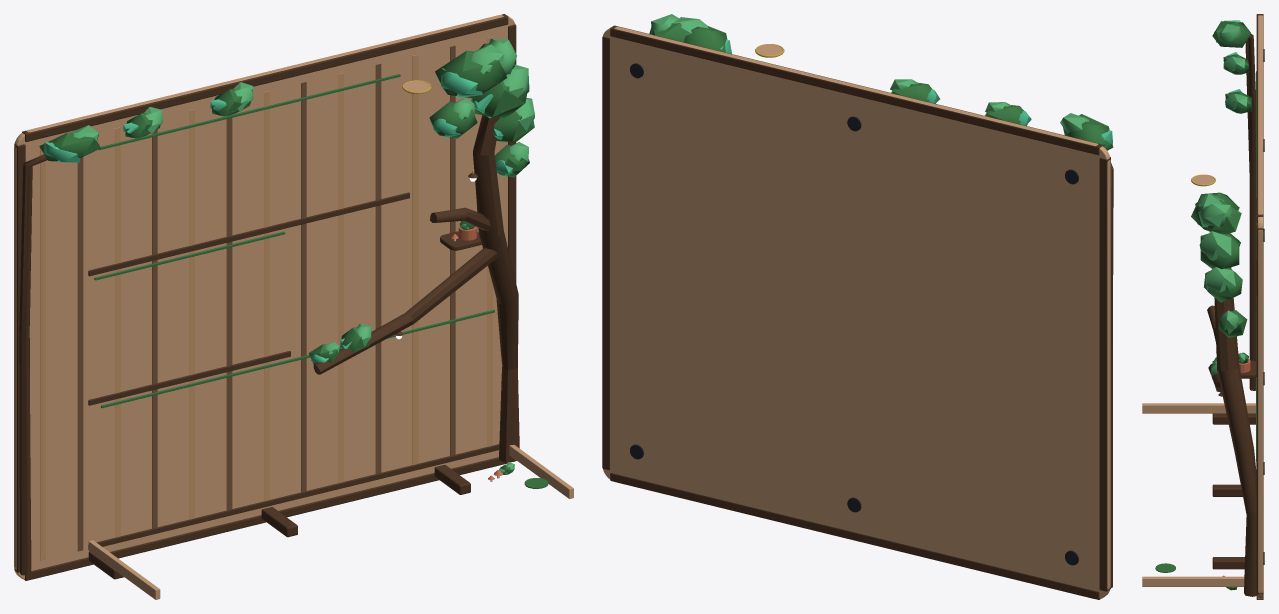
Rendered from WallHabitat_Backplate_Full.fbx.
3 views of the same model, side by side, from view 1: azimuth 30°, elevation 25°; view 2: azimuth 150°, elevation 25°; view 3: azimuth 270°, elevation 25° (orthographic). The views are drawn at different scales.
Parts seen in each view (by area): view 1: WallHabitat_Backplate_Full_Chassis; view 2: WallHabitat_Backplate_Full_Chassis; view 3: WallHabitat_Backplate_Full_Chassis.
Part boxes in pixels (x1,y1,x2,y2): WallHabitat_Backplate_Full_Chassis: (14,14,573,599); WallHabitat_Backplate_Full_Chassis: (602,14,1113,599); WallHabitat_Backplate_Full_Chassis: (1142,14,1264,599).
Bounding box in the file's own units: 105 × 91.03 × 26.
